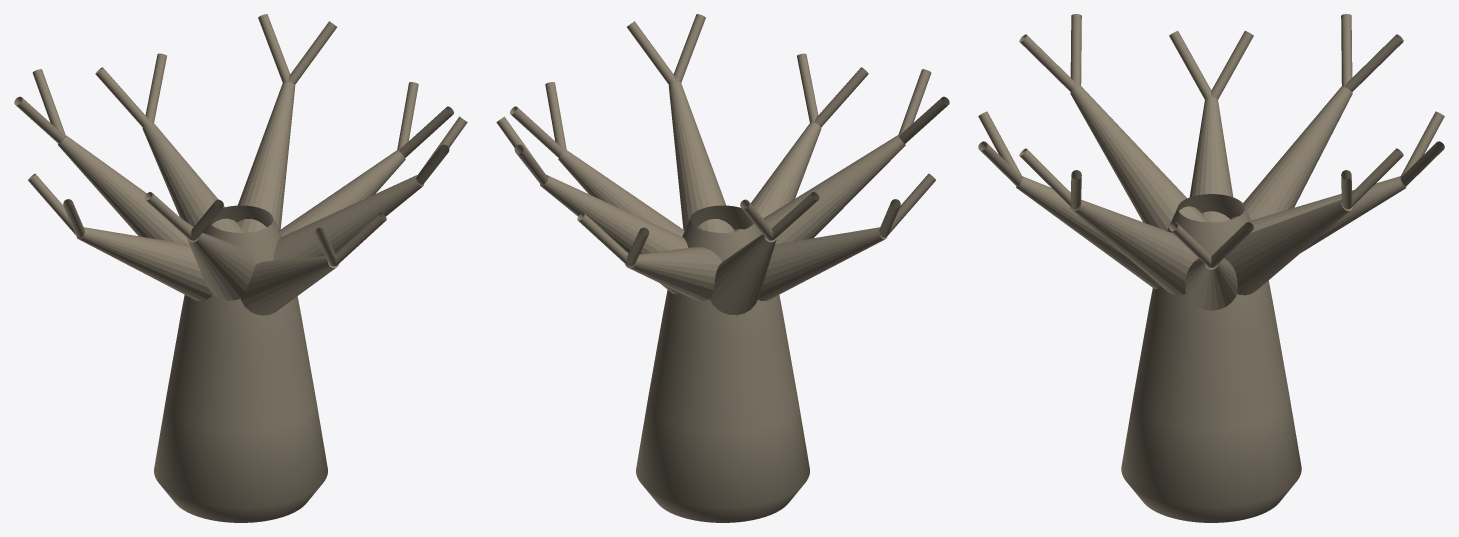
File: baobab-study.fbx
3 renders of one model, left to right at view 1: azimuth 30°, elevation 25°; view 2: azimuth 150°, elevation 25°; view 3: azimuth 270°, elevation 25°, orthographic. The views are drawn at different scales.
Parts seen in each view (by area): view 1: Swollen trunk, Cone.004, Cone.001, Cone.007, Cone.003, Cone.002, Cone.006, Cone.005, Cone, Outer branch.005, Outer branch.002, Outer branch.003 (+8 smaller); view 2: Swollen trunk, Cone.007, Cone.005, Cone.004, Cone.001, Cone.003, Cone.002, Cone.006, Cone, Outer branch.012, Outer branch.015, Outer branch.014 (+8 smaller); view 3: Swollen trunk, Cone.005, Cone.001, Cone.007, Cone.003, Cone.004, Cone.006, Cone.002, Cone, Outer branch.008, Outer branch.009, Outer branch.006 (+11 smaller).
Part boxes in pixels (left/top/right/bottom): Swollen trunk: left=154, top=205, right=327, bottom=522; Cone.004: left=77, top=227, right=212, bottom=300; Cone.001: left=237, top=82, right=295, bottom=232; Cone.007: left=273, top=175, right=423, bottom=260; Cone.003: left=58, top=135, right=193, bottom=244; Cone.002: left=142, top=122, right=243, bottom=232; Cone.006: left=241, top=256, right=338, bottom=315; Cone.005: left=187, top=233, right=255, bottom=300; Cone: left=279, top=150, right=405, bottom=236; Outer branch.005: left=95, top=67, right=149, bottom=127; Outer branch.002: left=288, top=21, right=336, bottom=84; Outer branch.003: left=258, top=14, right=290, bottom=82; Swollen trunk: left=636, top=205, right=809, bottom=522; Cone.007: left=668, top=82, right=734, bottom=232; Cone.005: left=761, top=135, right=905, bottom=244; Cone.004: left=758, top=227, right=886, bottom=300; Cone.001: left=540, top=175, right=688, bottom=294; Cone.003: left=710, top=234, right=776, bottom=315; Cone.002: left=625, top=247, right=722, bottom=300; Cone.006: left=734, top=122, right=821, bottom=231; Cone: left=558, top=150, right=684, bottom=236; Outer branch.012: left=814, top=67, right=868, bottom=127; Outer branch.015: left=627, top=21, right=675, bottom=84; Outer branch.014: left=673, top=14, right=705, bottom=82; Swollen trunk: left=1121, top=194, right=1301, bottom=522; Cone.005: left=1070, top=86, right=1209, bottom=230; Cone.001: left=1224, top=200, right=1352, bottom=295; Cone.007: left=1070, top=200, right=1198, bottom=295; Cone.003: left=1230, top=86, right=1352, bottom=220; Cone.004: left=1189, top=97, right=1233, bottom=222; Cone.006: left=1016, top=176, right=1160, bottom=289; Cone.002: left=1250, top=176, right=1406, bottom=252; Cone: left=1185, top=254, right=1237, bottom=310; Outer branch.008: left=1211, top=31, right=1253, bottom=99; Outer branch.009: left=1169, top=31, right=1211, bottom=99; Outer branch.006: left=1345, top=34, right=1403, bottom=91.
Size of the model in its own units: 486 by 461 by 486.
